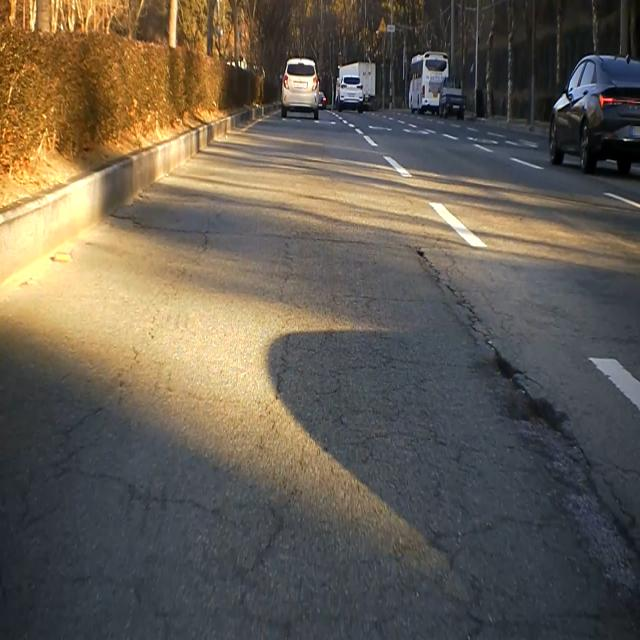Pothole: (489, 340, 597, 484)
